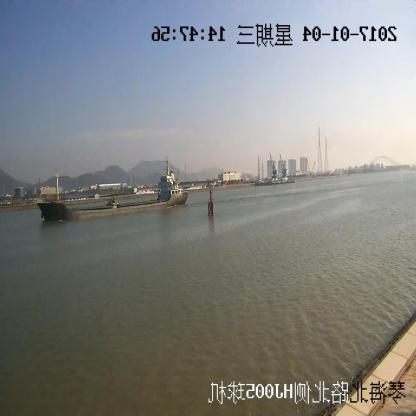Bulk Carrier: (37, 165, 190, 224)
